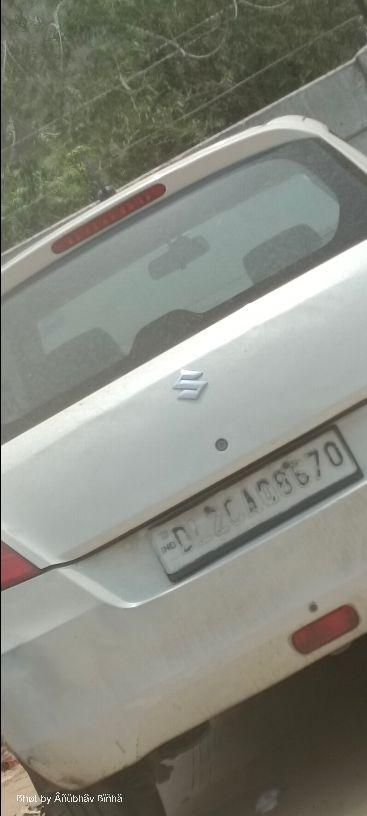license_plate: (146, 419, 362, 582)
